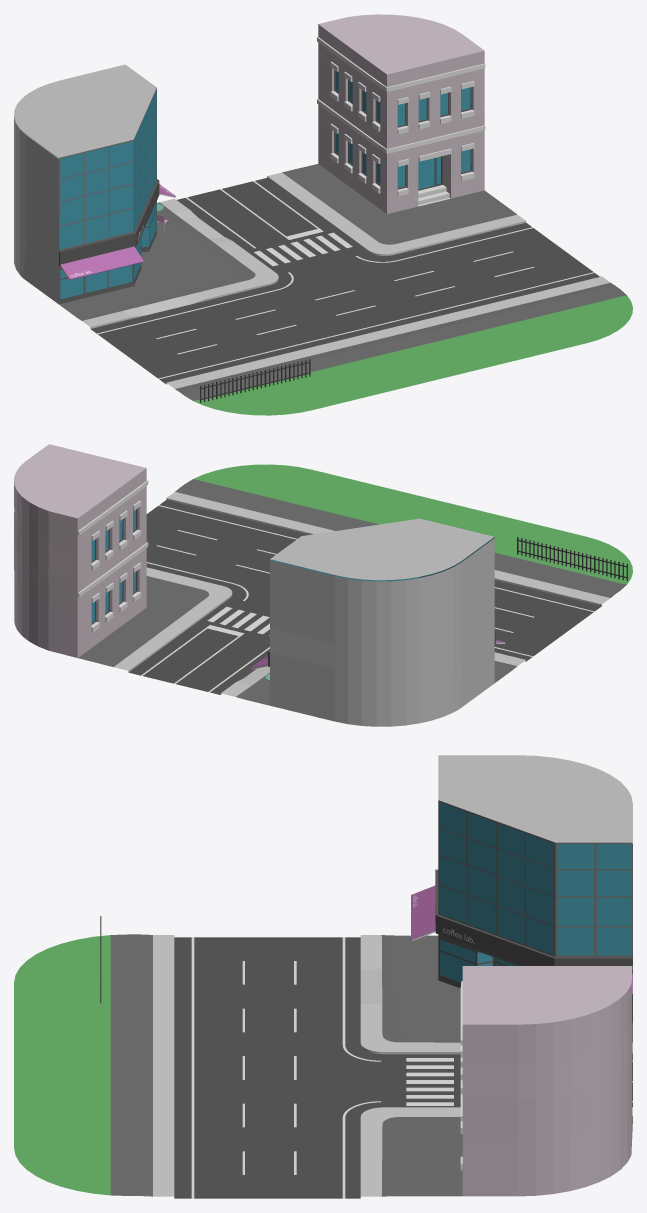
Rendered from EnvCafe.fbx.
3 renders of one model, top to bottom at view 1: azimuth 30°, elevation 25°; view 2: azimuth 150°, elevation 25°; view 3: azimuth 270°, elevation 25°, orthographic. The views are drawn at different scales.
Visible parts, largest first — view 1: GroundCafe, ParkFence; view 2: GroundCafe, ParkFence; view 3: GroundCafe.
Boxes of the visible parts, x1,y1,x2,y2 form: GroundCafe: (14,14,632,415); ParkFence: (199,359,310,403); GroundCafe: (14,444,632,726); ParkFence: (517,537,628,581); GroundCafe: (14,755,632,1198).
Size of the model in its own units: 0.19 by 0.0616 by 0.19.
